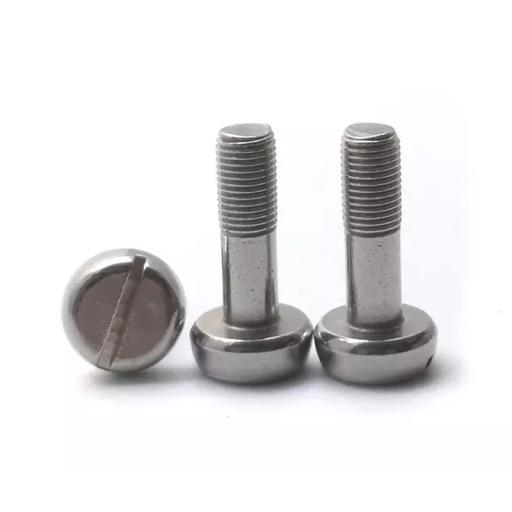Slotted: (63, 247, 186, 378)
